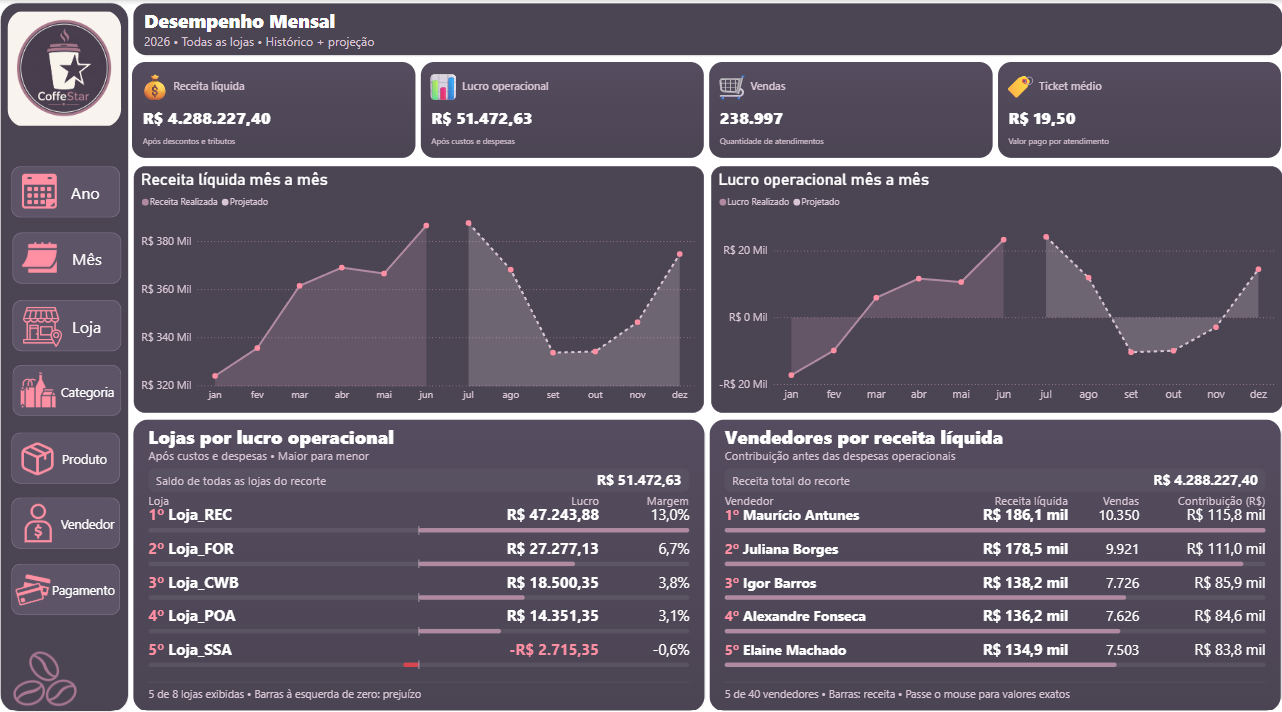

The dashboard page shown, as its layout file describes it:
{"tool":"powerbi","page":{"name":"Desempenho Mensal","canvas":[1920,1080],"ordinal":1},"visuals":[{"type":"htmlContent443BE3AD55E043BF878BED274D3A6855","fields":{"content":["Medidas.DM Cards Indicadores HTML"]},"box":[192.5,88.6,1725.2,159.8],"z":0},{"type":"shape","box":[16.8,248.1,162.3,76.5],"z":0,"group":"g1"},{"type":"shape","box":[18,347.1,162.3,76.5],"z":0,"group":"g2"},{"type":"shape","box":[18.7,447.8,162.3,76.5],"z":0,"group":"g3"},{"type":"shape","box":[18.6,544.9,162.3,76],"z":0,"group":"g4"},{"type":"shape","box":[16.8,645.6,162.3,76.5],"z":0,"group":"g5"},{"type":"shape","box":[16.8,742.6,162.3,76.5],"z":0,"group":"g6"},{"type":"shape","box":[16.8,841.3,162.3,76.5],"z":0,"group":"g7"},{"type":"htmlContent443BE3AD55E043BF878BED274D3A6855","fields":{"content":["Medidas.DM Cabecalho HTML"]},"box":[194.5,0,1725.2,88.6],"z":1000},{"type":"image","box":[16.8,258.6,84,52.2],"z":1000,"group":"g1"},{"type":"image","box":[16.8,358.2,84,52.2],"z":1000,"group":"g2"},{"type":"image","box":[13.1,455.3,100.8,65.3],"z":1000,"group":"g3"},{"type":"image","box":[14.9,556,84,51.9],"z":1000,"group":"g4"},{"type":"image","box":[11.1,654.9,89.6,59.7],"z":1000,"group":"g5"},{"type":"image","box":[7.5,751.5,98.9,57.8],"z":1000,"group":"g6"},{"type":"image","box":[16.8,854.4,65.3,52.2],"z":1000,"group":"g7"},{"type":"textbox","box":[100.8,266.8,65.3,44.8],"z":2000,"group":"g1"},{"type":"textbox","box":[102,365.8,65.3,44.8],"z":2000,"group":"g2"},{"type":"textbox","box":[102.7,466.5,65.3,44.8],"z":2000,"group":"g3"},{"type":"textbox","box":[85.8,567.1,89.6,48.2],"z":2000,"group":"g4"},{"type":"htmlContent443BE3AD55E043BF878BED274D3A6855","fields":{"content":["Medidas.DM Ranking Lojas HTML"]},"box":[194.5,621.9,862.6,452.5],"z":2000},{"type":"textbox","box":[87.7,668,89.6,48.5],"z":2000,"group":"g5"},{"type":"textbox","box":[86,765,98.9,48.5],"z":2000,"group":"g6"},{"type":"textbox","box":[72.7,863.7,108.2,48.5],"z":2000,"group":"g7"},{"type":"actionButton","box":[15.5,242.6,164.9,91.8],"z":3000,"group":"g1"},{"type":"lineChart","title":"Lucro operacional mês a mês","fields":{"Category":["dCalendario.Nome Mês Abr"],"Y":["Medidas.DM Lucro Realizado","Medidas.DM Lucro Projetado"]},"box":[1060.9,248.4,853,367.8],"z":3000},{"type":"lineChart","title":"Receita líquida mês a mês","fields":{"Category":["dCalendario.Nome Mês Abr"],"Y":["Medidas.DM Receita Realizada","Medidas.DM Receita Projetada"]},"box":[200.2,248.4,851,367.8],"z":4000},{"type":"shape","title":"Barra de filtros","box":[0,3.7,192.2,1060],"z":5000},{"type":"image","title":"Logo","box":[11.2,14.9,169.8,175.4],"z":6000},{"type":"group","id":"g1","title":"BTN_Ano","box":[15.5,242.6,164.9,91.8],"z":7000},{"type":"group","id":"g2","title":"BTN_Mes","box":[16.8,347.1,164.2,76.5],"z":9000},{"type":"group","id":"g3","title":"BTN_Loja","box":[13.1,447.8,167.9,76.5],"z":11000},{"type":"group","id":"g4","title":"BTN_Categoria","box":[14.9,544.9,166.1,76],"z":13000},{"type":"group","id":"g5","title":"BTN_Produto","box":[11.1,645.6,168,76.5],"z":15000},{"type":"group","id":"g6","title":"BTN_Vendedor","box":[7.5,742.6,177.4,76.5],"z":17000},{"type":"group","id":"g7","title":"BTN_Pagamento","box":[16.8,841.3,164.2,76.5],"z":19000},{"type":"actionButton","title":"Clique_Mes_Abrir","box":[16,342,164.9,91.8],"z":21000},{"type":"actionButton","title":"Clique_Loja_Abrir","box":[11.5,440.7,173,92.3],"z":22000},{"type":"actionButton","title":"Clique_Categoria_Abrir","box":[18.8,536.3,164.9,91.8],"z":23000},{"type":"actionButton","title":"Clique_Produto_Abrir","box":[16.7,636.5,164.9,91.8],"z":24000},{"type":"actionButton","title":"Clique_Vendedor_Abrir","box":[12.5,736.7,164.9,91.8],"z":25000},{"type":"actionButton","title":"Clique_Pagamento_Abrir","box":[6.9,832.9,177.7,92.3],"z":26000},{"type":"htmlContent443BE3AD55E043BF878BED274D3A6855","fields":{"content":["Medidas.DM Ranking Vendedores HTML"]},"box":[1055.1,621.9,862.6,452.5],"z":34000},{"type":"image","box":[0,953.5,134.3,119.4],"z":35000}]}

Visuals, with their boxes in screenshot pixels (x1, y1, x2, y2), scaled from the page's 1920x1080 canvas onto the 1282x712 screenshot:
htmlContent443BE3AD55E043BF878BED274D3A6855 - Medidas.DM Cards Indicadores HTML: x1=129, y1=58, x2=1280, y2=164
shape: x1=11, y1=164, x2=120, y2=214
shape: x1=12, y1=229, x2=120, y2=279
shape: x1=12, y1=295, x2=121, y2=346
shape: x1=12, y1=359, x2=121, y2=409
shape: x1=11, y1=426, x2=120, y2=476
shape: x1=11, y1=490, x2=120, y2=540
shape: x1=11, y1=555, x2=120, y2=605
htmlContent443BE3AD55E043BF878BED274D3A6855 - Medidas.DM Cabecalho HTML: x1=130, y1=0, x2=1281, y2=58
image: x1=11, y1=170, x2=67, y2=205
image: x1=11, y1=236, x2=67, y2=271
image: x1=9, y1=300, x2=76, y2=343
image: x1=10, y1=367, x2=66, y2=401
image: x1=7, y1=432, x2=67, y2=471
image: x1=5, y1=495, x2=71, y2=534
image: x1=11, y1=563, x2=55, y2=598
textbox: x1=67, y1=176, x2=111, y2=205
textbox: x1=68, y1=241, x2=112, y2=271
textbox: x1=69, y1=308, x2=112, y2=337
textbox: x1=57, y1=374, x2=117, y2=406
htmlContent443BE3AD55E043BF878BED274D3A6855 - Medidas.DM Ranking Lojas HTML: x1=130, y1=410, x2=706, y2=708
textbox: x1=59, y1=440, x2=118, y2=472
textbox: x1=57, y1=504, x2=123, y2=536
textbox: x1=49, y1=569, x2=121, y2=601
actionButton: x1=10, y1=160, x2=120, y2=220
"Lucro operacional mês a mês" lineChart: x1=708, y1=164, x2=1278, y2=406
"Receita líquida mês a mês" lineChart: x1=134, y1=164, x2=702, y2=406
"Barra de filtros" shape: x1=0, y1=2, x2=128, y2=701
"Logo" image: x1=7, y1=10, x2=121, y2=125
"BTN_Ano" group: x1=10, y1=160, x2=120, y2=220
"BTN_Mes" group: x1=11, y1=229, x2=121, y2=279
"BTN_Loja" group: x1=9, y1=295, x2=121, y2=346
"BTN_Categoria" group: x1=10, y1=359, x2=121, y2=409
"BTN_Produto" group: x1=7, y1=426, x2=120, y2=476
"BTN_Vendedor" group: x1=5, y1=490, x2=123, y2=540
"BTN_Pagamento" group: x1=11, y1=555, x2=121, y2=605
"Clique_Mes_Abrir" actionButton: x1=11, y1=225, x2=121, y2=286
"Clique_Loja_Abrir" actionButton: x1=8, y1=291, x2=123, y2=351
"Clique_Categoria_Abrir" actionButton: x1=13, y1=354, x2=123, y2=414
"Clique_Produto_Abrir" actionButton: x1=11, y1=420, x2=121, y2=480
"Clique_Vendedor_Abrir" actionButton: x1=8, y1=486, x2=118, y2=546
"Clique_Pagamento_Abrir" actionButton: x1=5, y1=549, x2=123, y2=610
htmlContent443BE3AD55E043BF878BED274D3A6855 - Medidas.DM Ranking Vendedores HTML: x1=704, y1=410, x2=1280, y2=708
image: x1=0, y1=629, x2=90, y2=707
